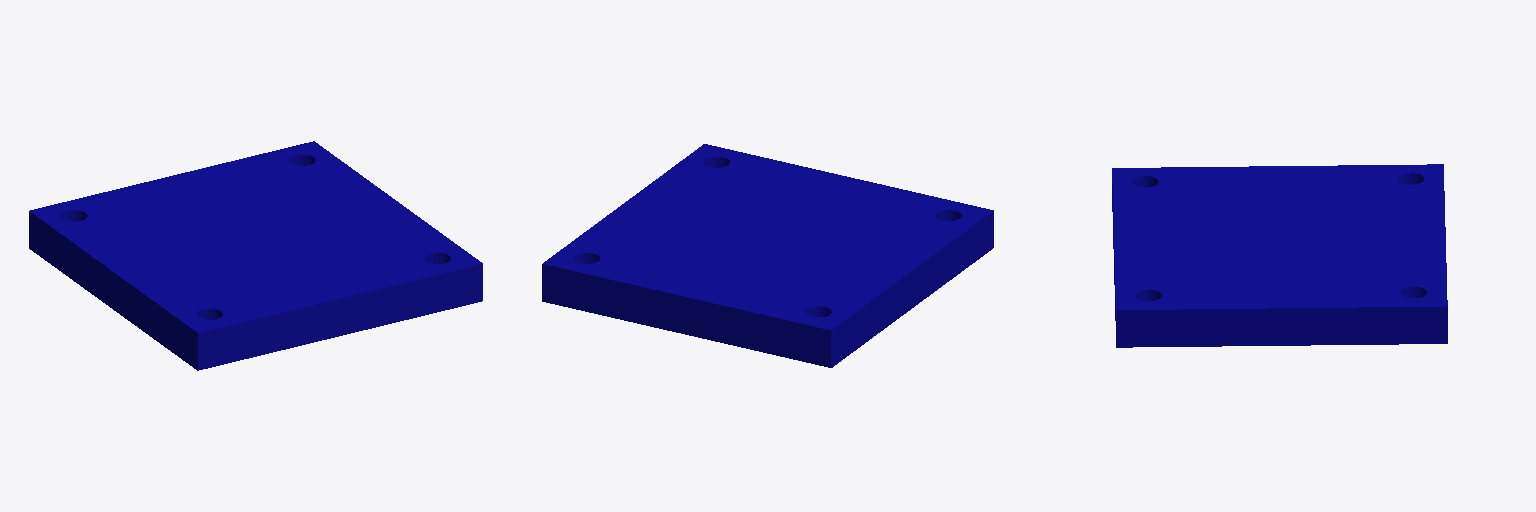
The model's file is move2.obj.
3 views of the same model, side by side, from view 1: azimuth 30°, elevation 25°; view 2: azimuth 150°, elevation 25°; view 3: azimuth 270°, elevation 25° (orthographic).
Parts seen in each view (by area): view 1: Assem1_-_Tool_connection_plate-2; view 2: Assem1_-_Tool_connection_plate-2; view 3: Assem1_-_Tool_connection_plate-2.
Boxes of the visible parts, <box> form: Assem1_-_Tool_connection_plate-2: <box>29,141,482,370</box>; Assem1_-_Tool_connection_plate-2: <box>542,144,993,367</box>; Assem1_-_Tool_connection_plate-2: <box>1112,164,1447,347</box>.
Size of the model in its own units: 4.68 by 0.6397 by 4.68.